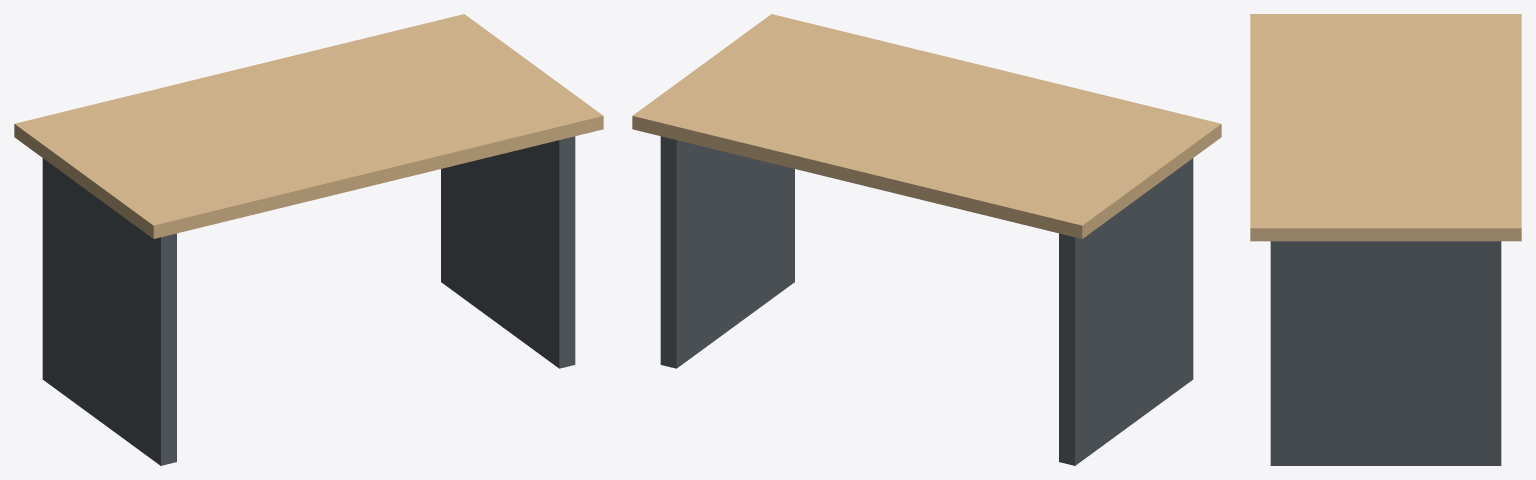
The model's file is isometric_workstation_variations_guide_46.glb.
3 views of the same model, side by side, from view 1: azimuth 30°, elevation 25°; view 2: azimuth 150°, elevation 25°; view 3: azimuth 270°, elevation 25° (orthographic). The views are drawn at different scales.
Visible parts, largest first — view 1: Cube; view 2: Cube; view 3: Cube.
Boxes of the visible parts, x1=… form: Cube: x1=14, y1=14, x2=603, y2=465; Cube: x1=632, y1=14, x2=1221, y2=465; Cube: x1=1250, y1=14, x2=1521, y2=465.
Bounding box in the file's own units: 1.4 × 0.75 × 0.75.
